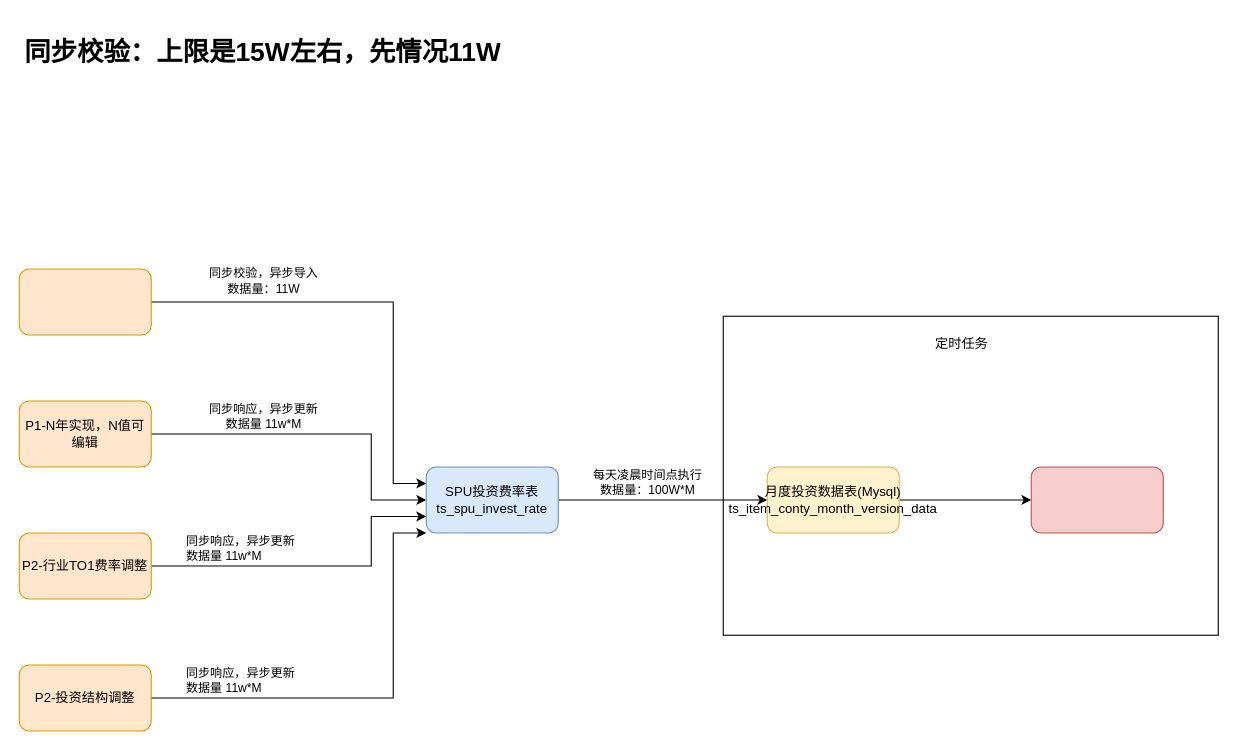
Image size: 1238x750. Some labels were removed from this diagram. The shapes that lost their labels are listed below. From the top down, each one's box as (x1, y1, x2, y2) in pixels, then its label:
(18, 268, 151, 335): P0-SPU费率导入
(1030, 466, 1163, 533): 月度投资数据表(CK) ts_item_conty_month_version_data
